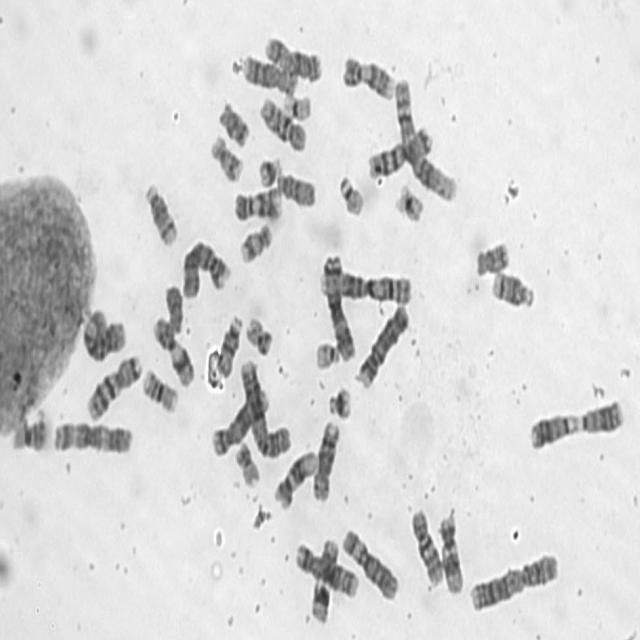A1: (393, 75, 458, 204), (317, 256, 413, 306)
A2: (466, 545, 560, 614), (238, 355, 292, 460)
A3: (321, 250, 356, 363), (50, 418, 134, 457)
B4: (354, 300, 411, 389), (178, 235, 232, 300)
B5: (209, 384, 271, 458), (292, 539, 360, 599)
C10: (408, 503, 444, 588), (257, 94, 308, 154)
C11: (150, 313, 196, 390), (309, 536, 340, 626)
C12: (272, 446, 318, 508), (438, 513, 463, 595)
C6: (339, 524, 400, 602), (80, 303, 128, 365)
C7: (83, 350, 144, 423), (365, 123, 434, 180)
C8: (309, 417, 341, 503), (242, 53, 298, 97)
C9: (340, 51, 396, 103), (231, 185, 284, 224)
D13: (526, 404, 580, 453), (570, 396, 624, 430)
D14: (142, 178, 178, 250), (490, 267, 536, 311)
D15: (215, 312, 244, 378), (274, 167, 317, 210)
E16: (141, 364, 179, 414), (8, 414, 50, 453)
E17: (208, 132, 244, 184), (238, 218, 276, 266)
E18: (216, 97, 250, 149), (473, 238, 510, 277)
F19: (394, 180, 426, 225), (280, 89, 312, 122)
F20: (232, 438, 262, 488), (245, 312, 274, 357)
G21: (256, 153, 283, 189), (326, 384, 351, 422)
G22: (335, 170, 367, 220), (312, 336, 340, 372)
X: (262, 32, 323, 82)
Y: (166, 284, 184, 338)
